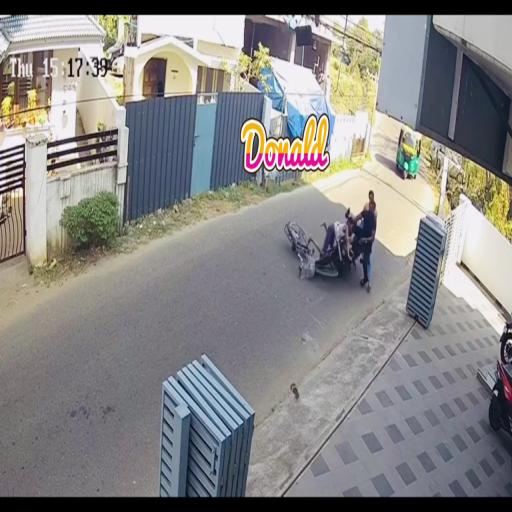小汽车: (395, 121, 421, 177)
自行车撞自行车: (286, 188, 379, 288)
